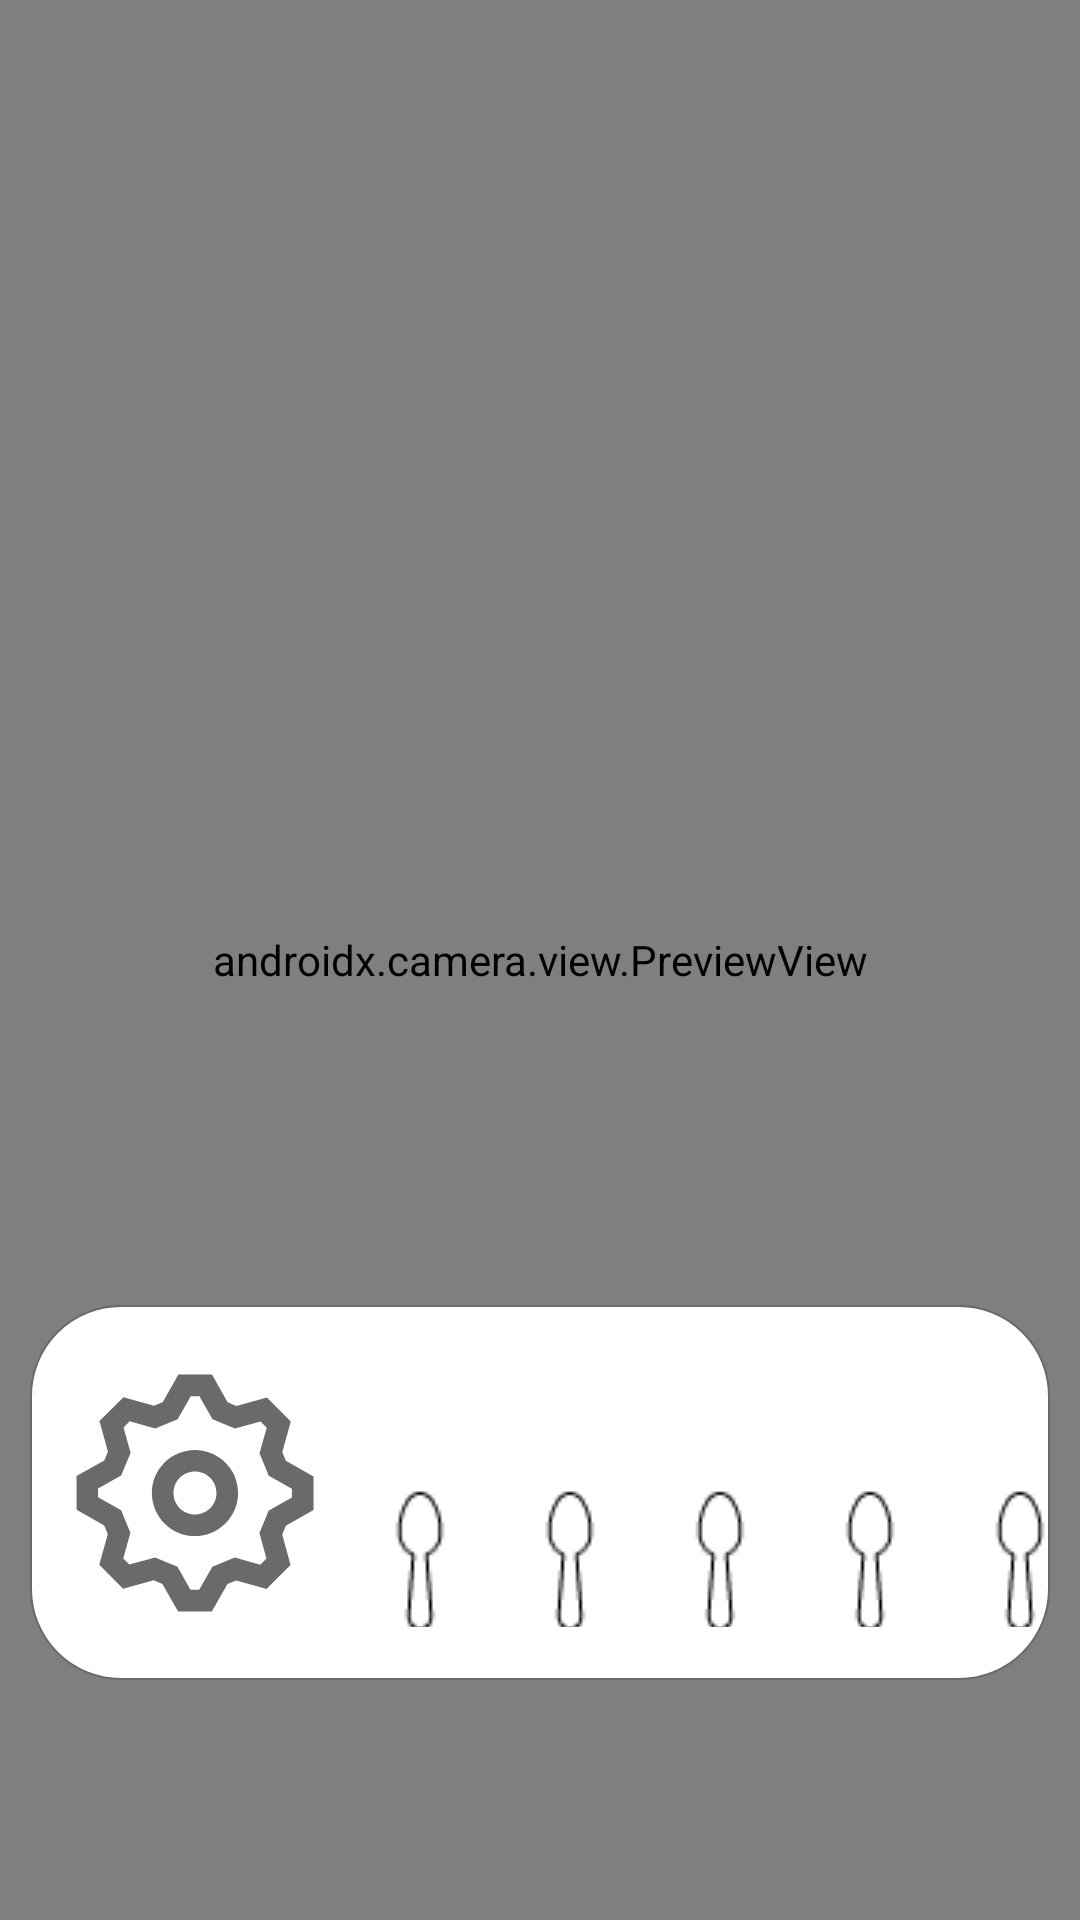

Screen size 1080×1920. Icon name, then its center in pixels as (x,y):
settings: (195,1493)
